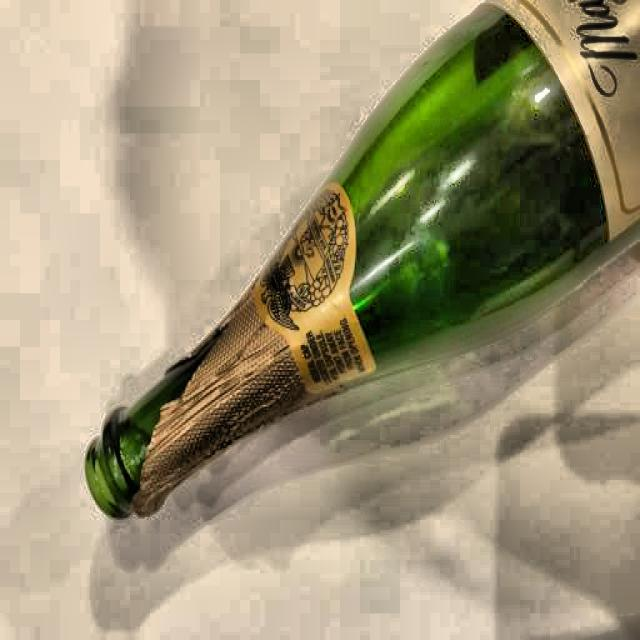glass: (85, 0, 640, 523)
